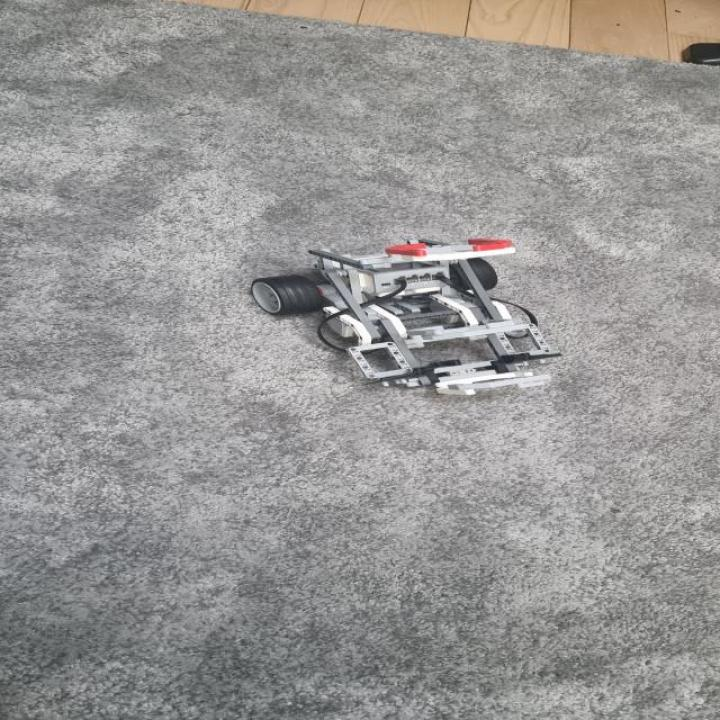robot: (249, 238, 568, 396)
